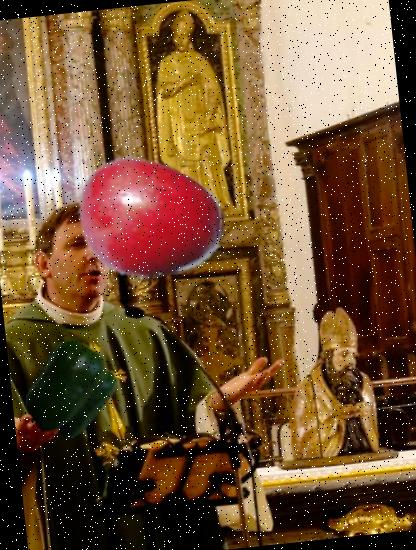Cherry: (69, 134, 232, 297)
Pepper: (14, 336, 121, 444)
